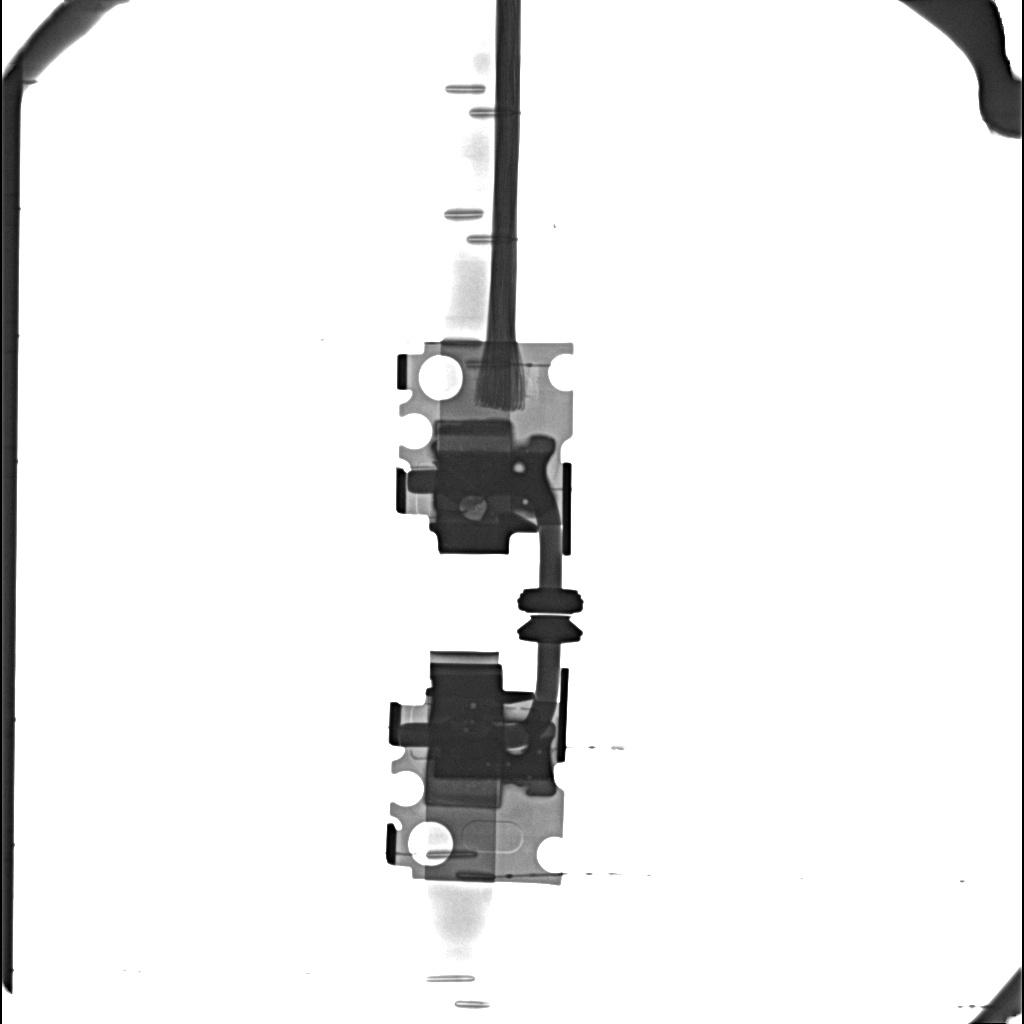气孔: (425, 761, 503, 809), (434, 420, 514, 449)
气泡: (459, 496, 487, 521), (470, 703, 477, 709)
水纹: (432, 725, 550, 781), (436, 454, 549, 497)
